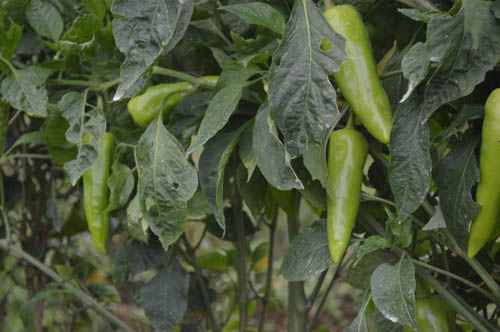ChiliPepper: (318, 4, 395, 140), (465, 91, 499, 267), (326, 129, 364, 268), (75, 133, 115, 257), (123, 78, 222, 125)
